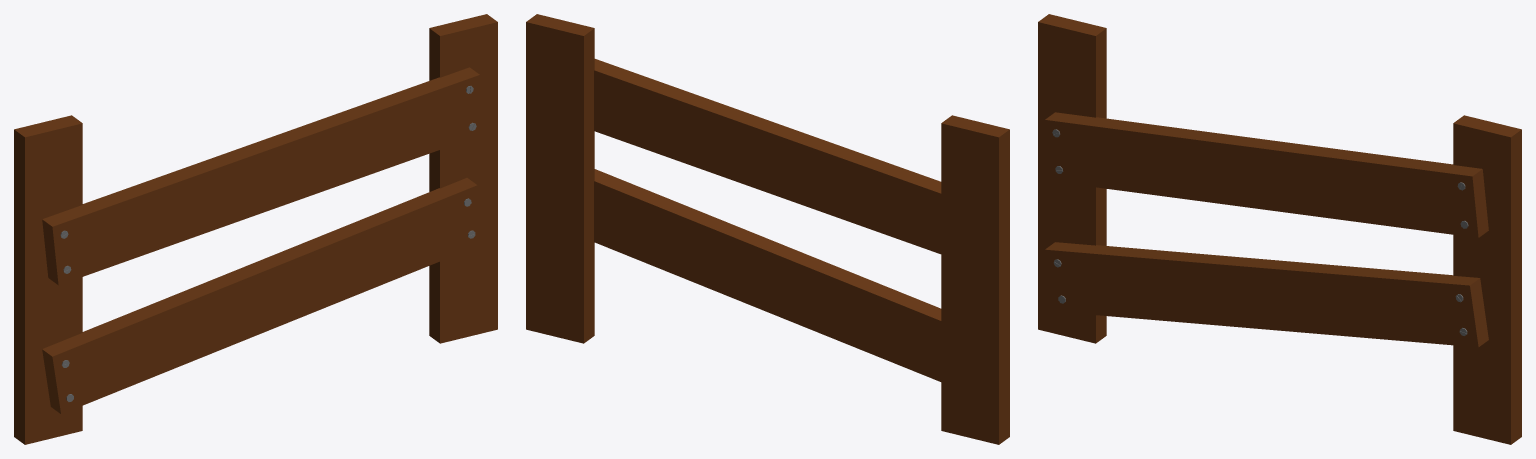
Rendered from fence6.glb.
The picture shows the model from 3 angles, left to right: view 1: azimuth 30°, elevation 25°; view 2: azimuth 150°, elevation 25°; view 3: azimuth 330°, elevation 25°; orthographic projection.
Visible parts, largest first — view 1: Fence6; view 2: Fence6; view 3: Fence6.
Boxes of the visible parts, x1,y1,x2,y2 form: Fence6: (14, 14, 497, 444); Fence6: (526, 14, 1009, 444); Fence6: (1038, 14, 1521, 444).
Size of the model in its own units: 3.51 by 2.18 by 0.2806.
2 materials, 1 textured.
